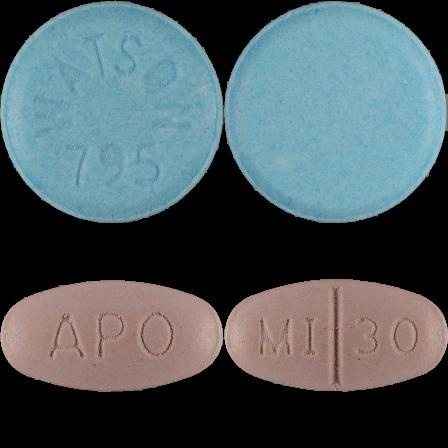58118-0795: (0, 0, 224, 224)
